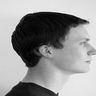ear: (34, 40, 59, 63)
